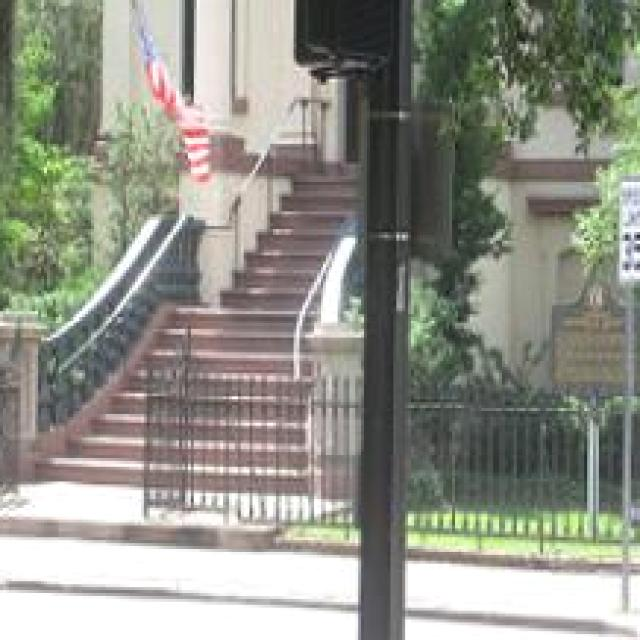upstair: (42, 248, 342, 491)
